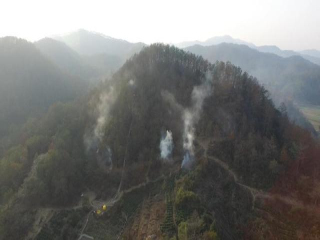smoke: (82, 74, 221, 169)
